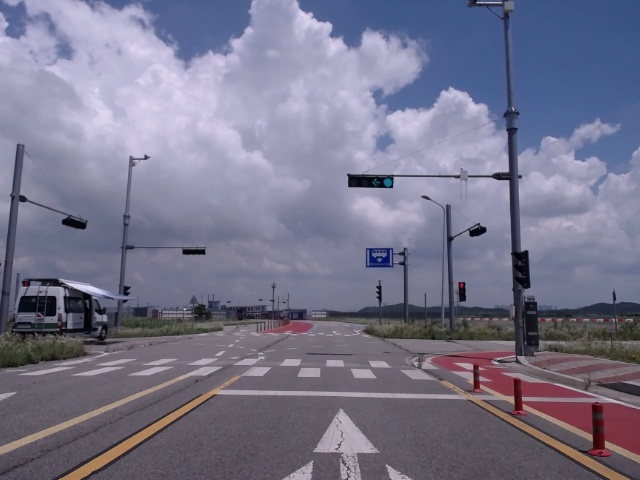all_green_4: (348, 176, 394, 187)
